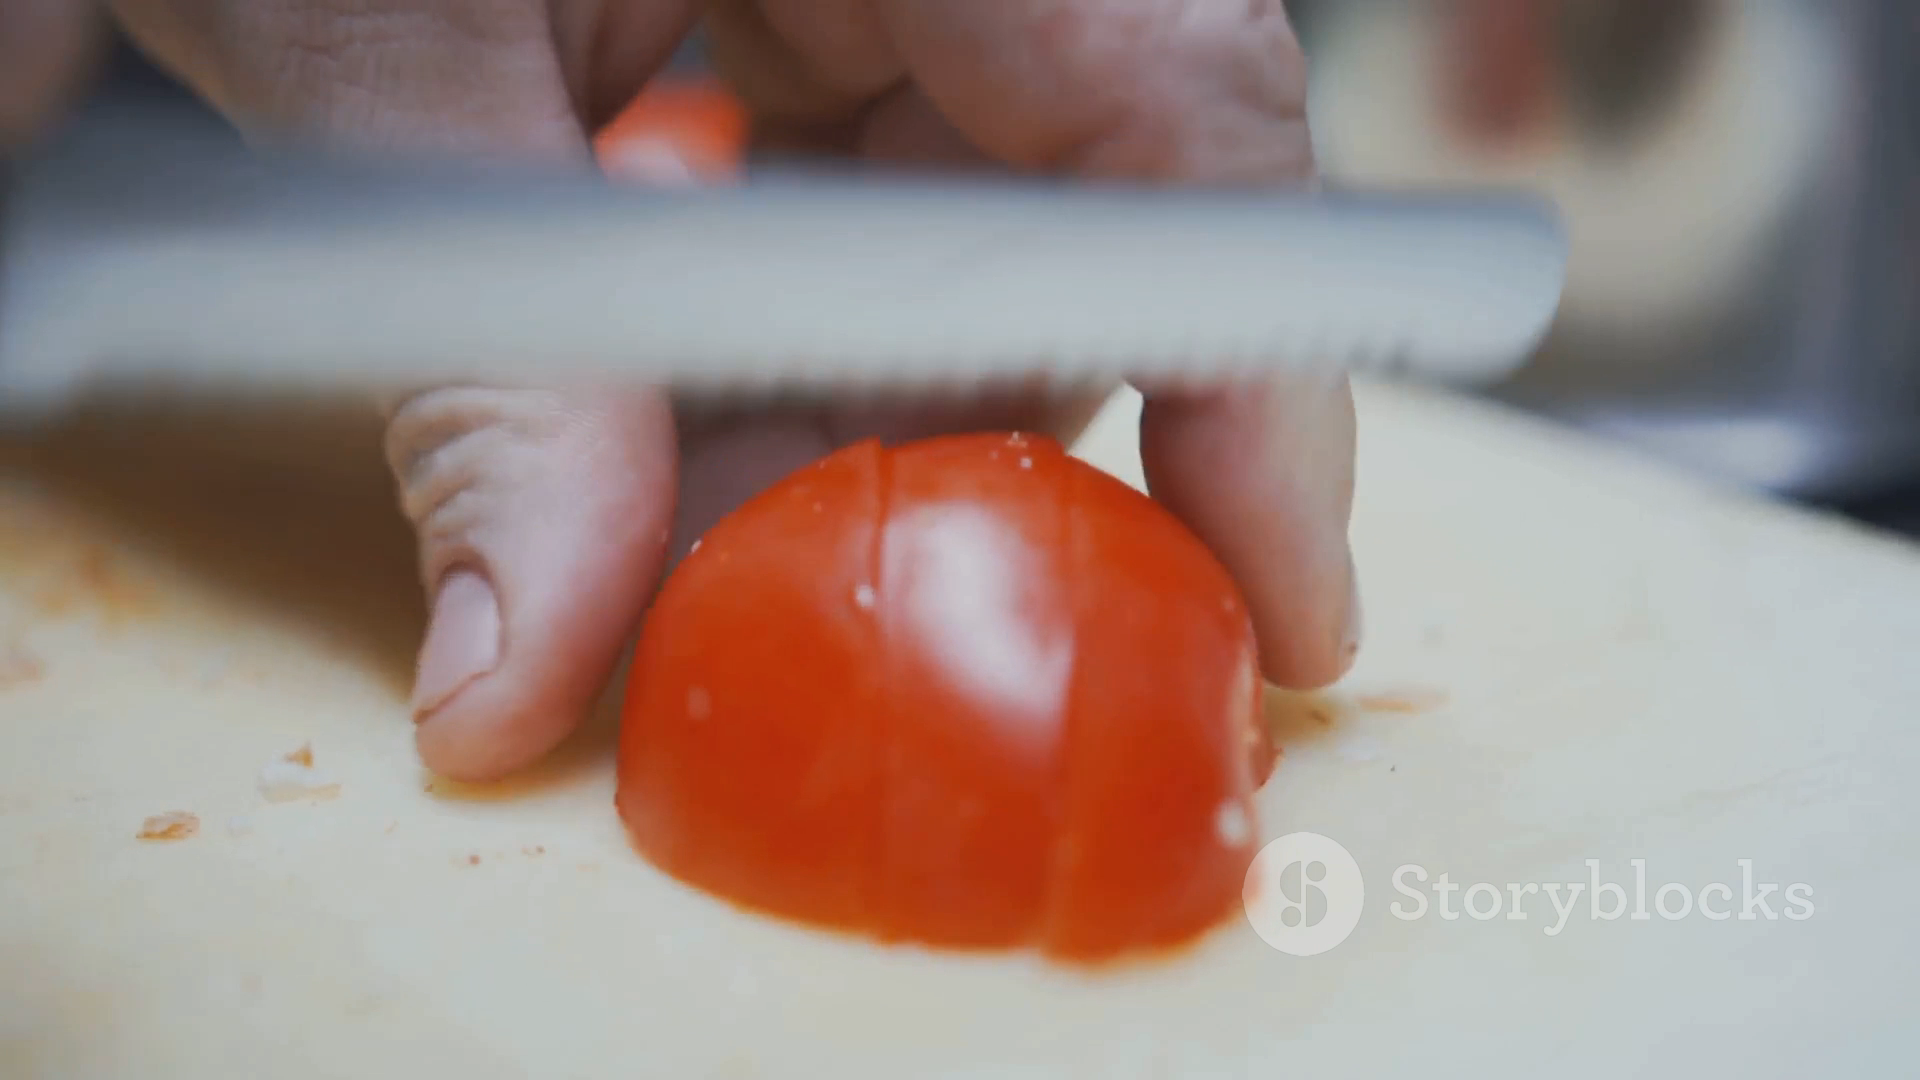cortante: (0, 178, 1569, 415)
